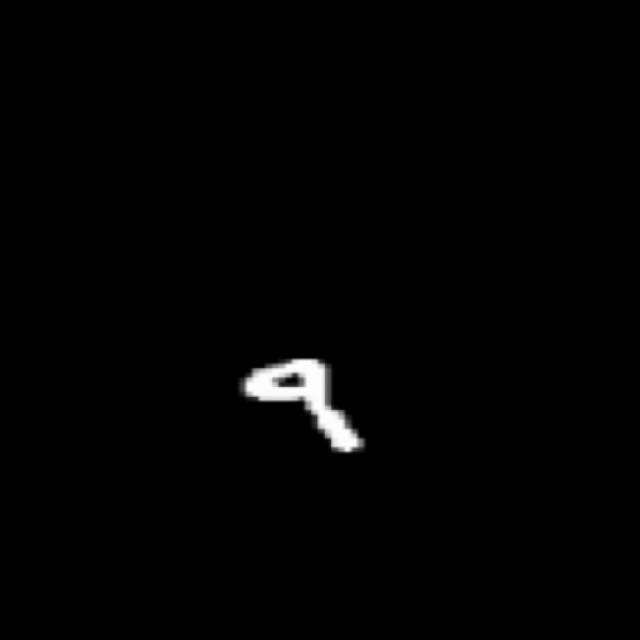nine -9-: (239, 351, 370, 461)
